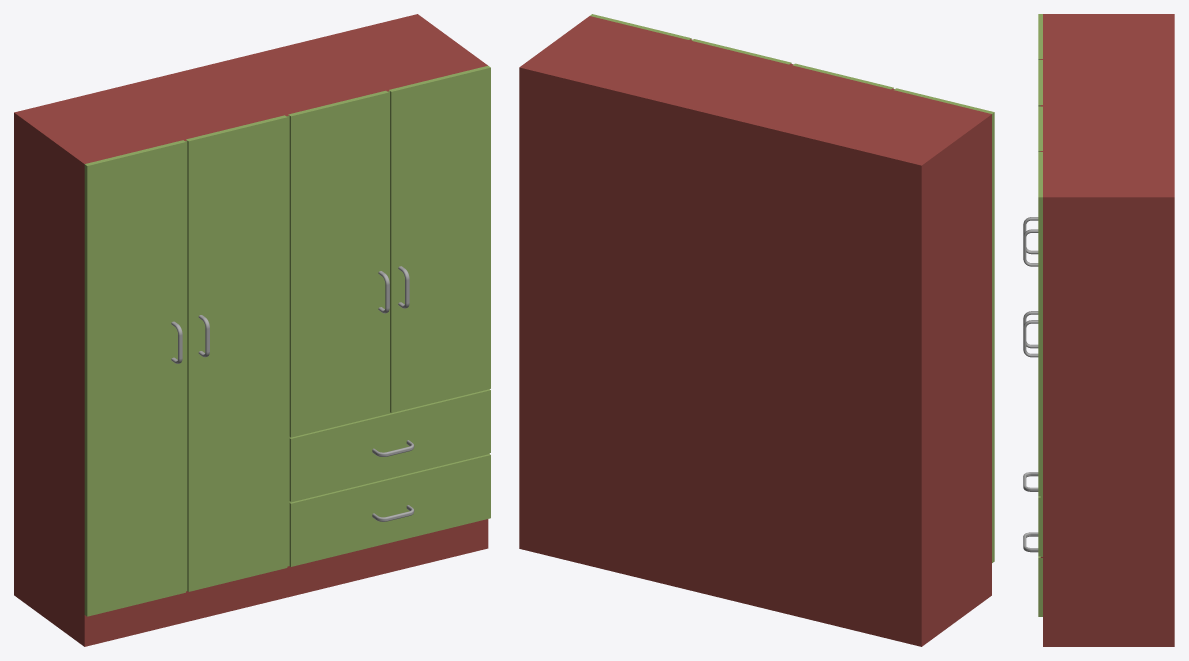
Rendered from cupb.fbx.
3 renders of one model, left to right at view 1: azimuth 30°, elevation 25°; view 2: azimuth 150°, elevation 25°; view 3: azimuth 270°, elevation 25°, orthographic. The views are drawn at different scales.
Visible parts, largest first — view 1: cupboard_child; view 2: cupboard_child; view 3: cupboard_child.
Part boxes in pixels (left/top/right/bottom): cupboard_child: left=14, top=14, right=490, bottom=646; cupboard_child: left=519, top=14, right=994, bottom=646; cupboard_child: left=1038, top=14, right=1174, bottom=646.
Size of the model in its own units: 175 by 200 by 60.98.
